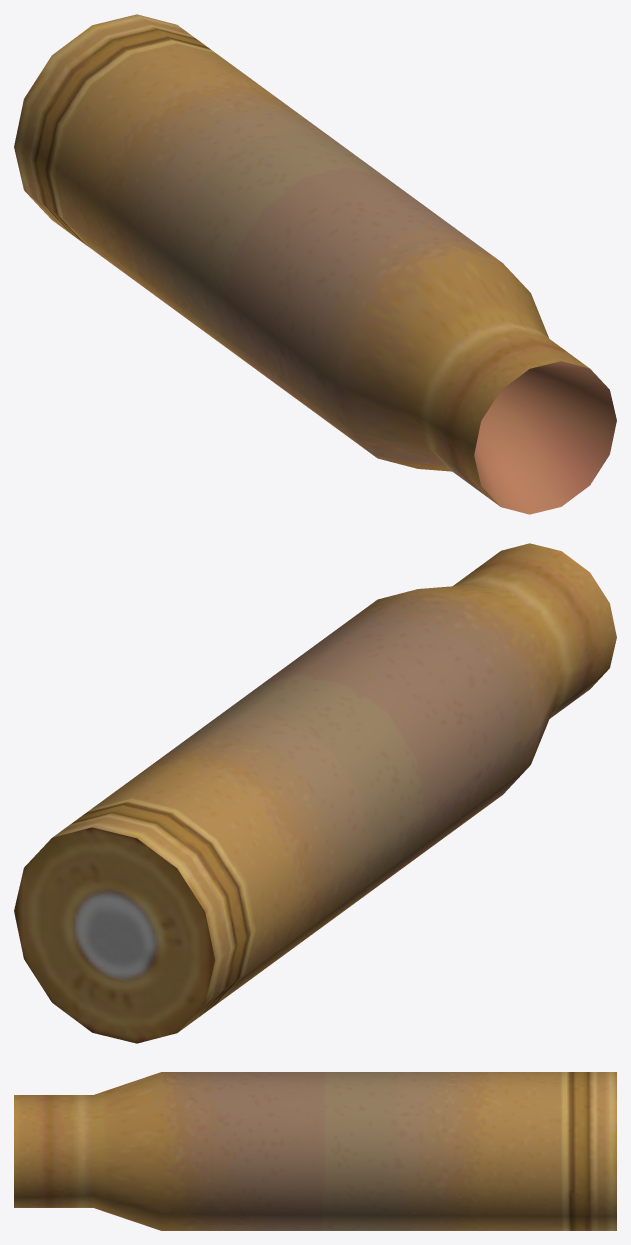
File: AssaultRifleShells.fbx
3 renders of one model, top to bottom at view 1: azimuth 30°, elevation 25°; view 2: azimuth 150°, elevation 25°; view 3: azimuth 270°, elevation 25°, orthographic. The views are drawn at different scales.
Visible parts, largest first — view 1: cartridge.001; view 2: cartridge.001; view 3: cartridge.001.
Part boxes in pixels (box(x1,y1,x2,y2)): cartridge.001: box(14, 14, 616, 514); cartridge.001: box(14, 543, 616, 1043); cartridge.001: box(14, 1072, 616, 1230).
Size of the model in its own units: 44.43 by 43.32 by 165.
